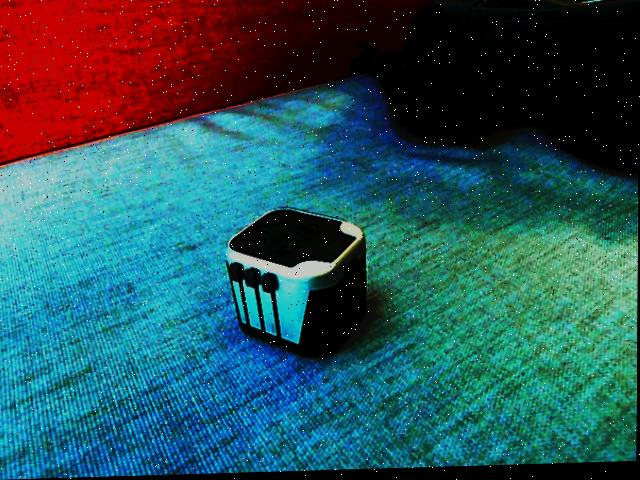adapter: (223, 207, 367, 361)
